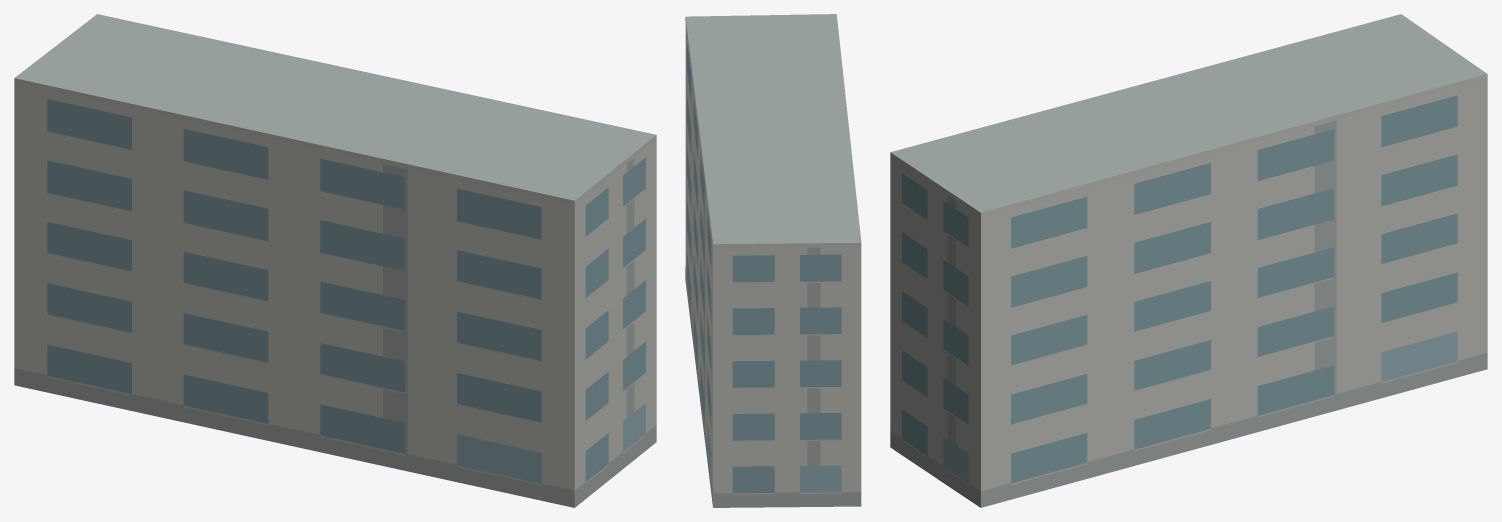
File: survey-upis-32760696.glb
3 views of the same model, side by side, from view 1: azimuth 30°, elevation 25°; view 2: azimuth 150°, elevation 25°; view 3: azimuth 270°, elevation 25° (orthographic). The views are drawn at different scales.
Parts seen in each view (by area): view 1: survey-upis-32760696.tmp; view 2: survey-upis-32760696.tmp; view 3: survey-upis-32760696.tmp.
Part boxes in pixels (x1,y1,x2,y2): survey-upis-32760696.tmp: (14,14,656,507); survey-upis-32760696.tmp: (685,14,861,507); survey-upis-32760696.tmp: (890,14,1487,507).
Bounding box in the file's own units: 21.37 × 14.8 × 27.15.
